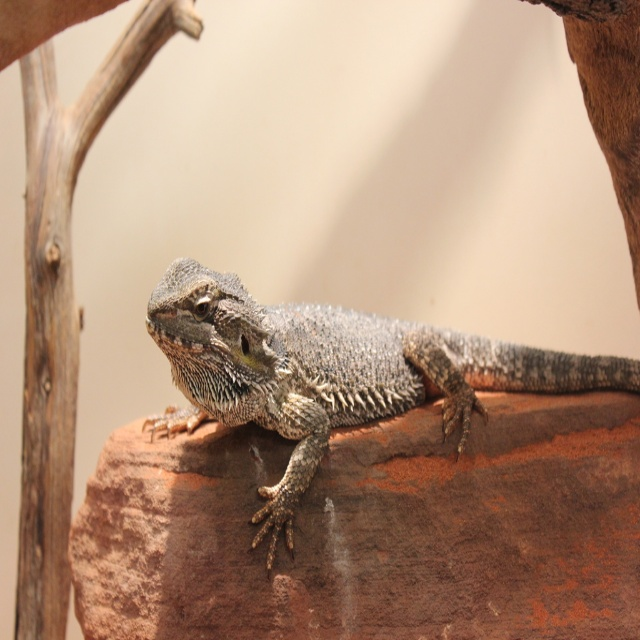Lizard: (148, 255, 638, 575)
